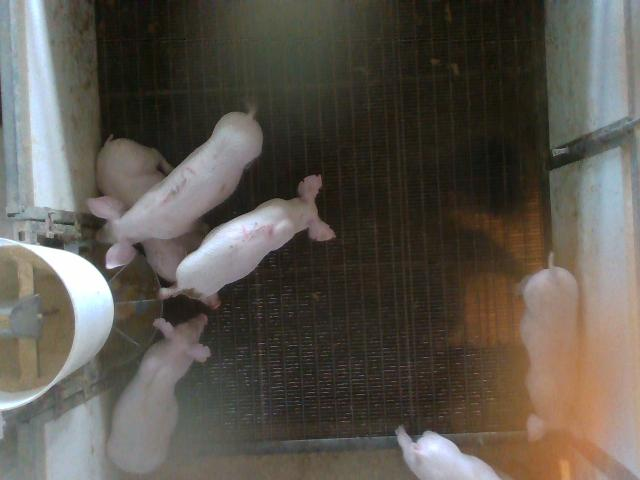pig-3: (89, 114, 262, 268)
pig-5: (160, 175, 335, 307)
